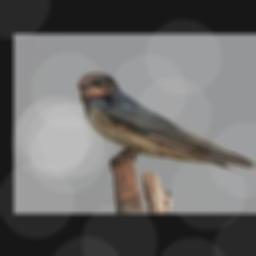Swallow: (77, 74, 255, 171)
